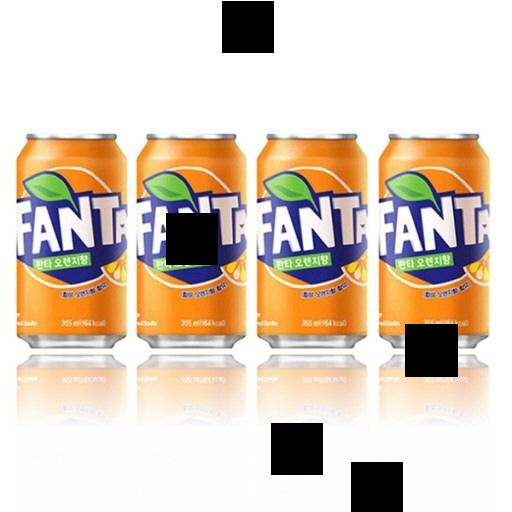fanta_orange: (373, 129, 499, 362), (131, 127, 249, 363), (253, 127, 369, 366), (12, 127, 123, 366)
